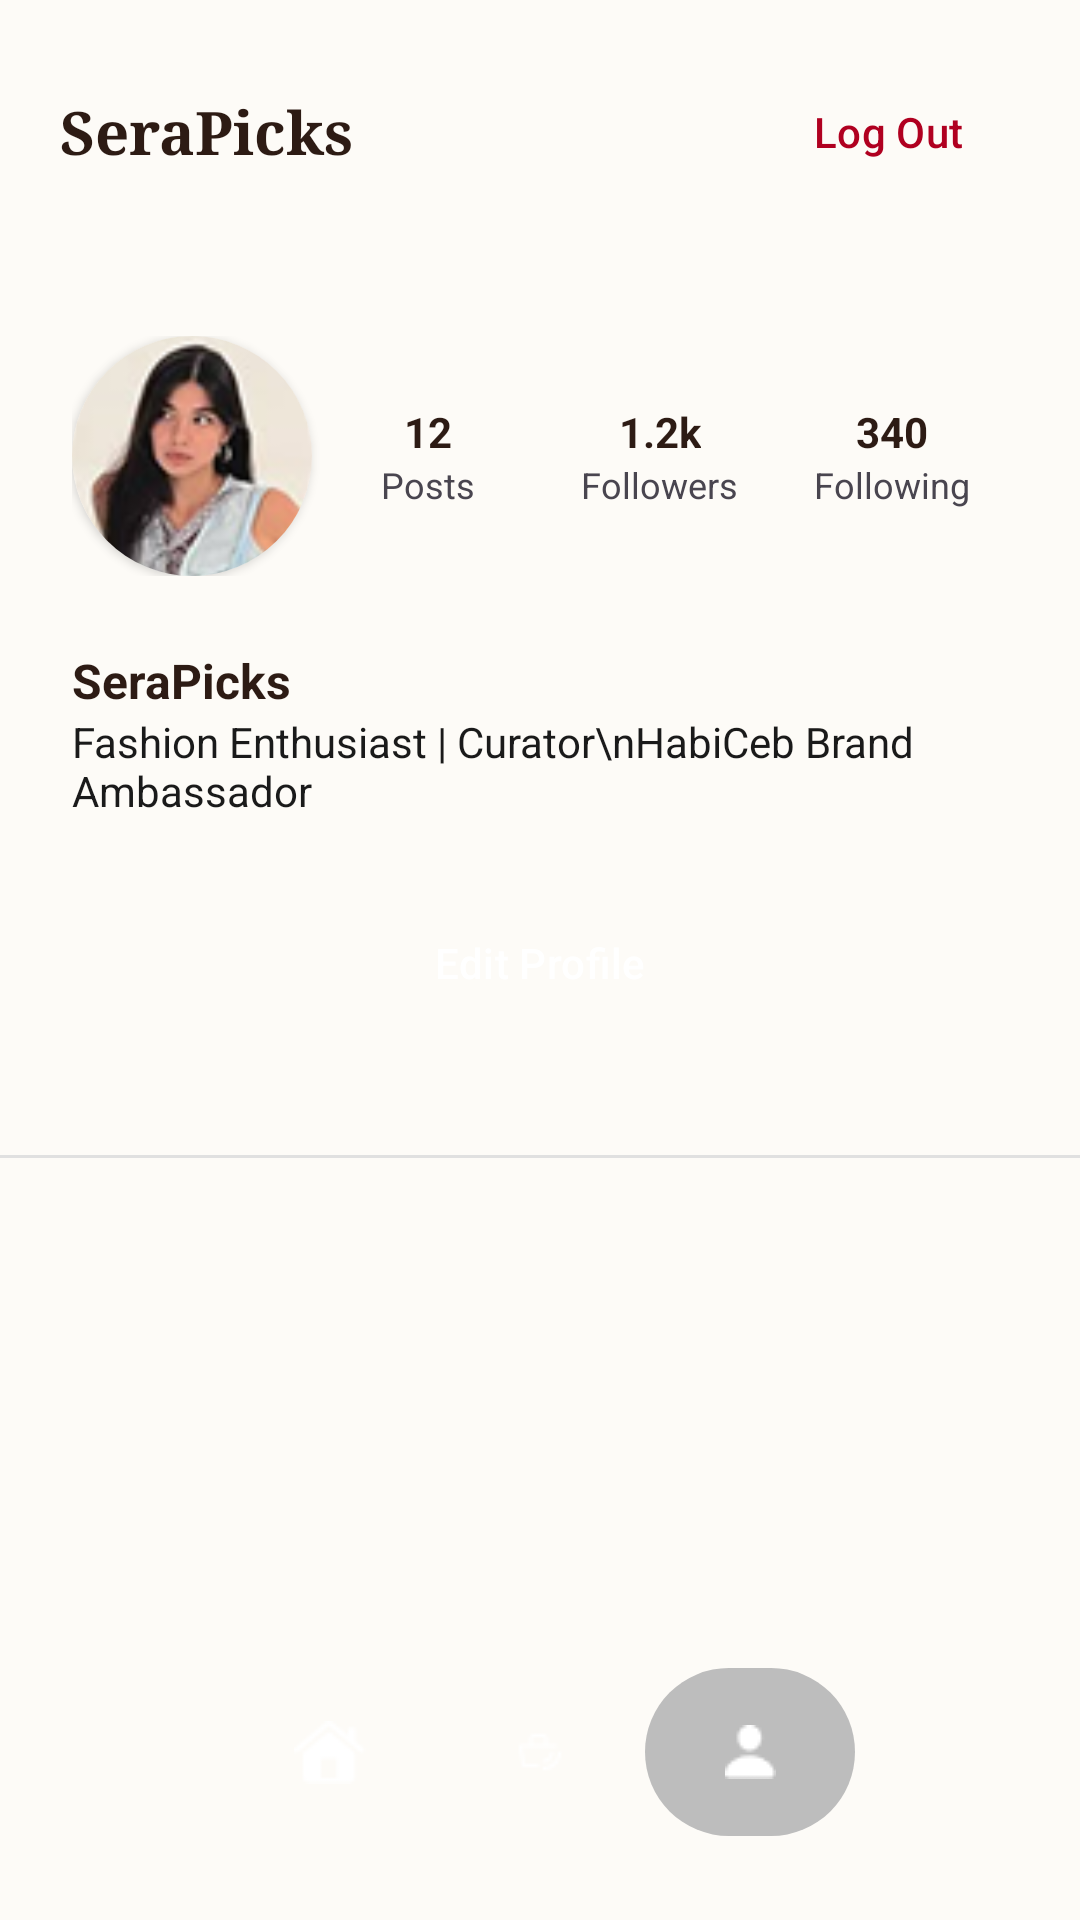

Point at icon controls on the screen. Image size 1080px×1920px, points as (x,y).
Profile: (750,1752)
seraprofile: (192,456)
